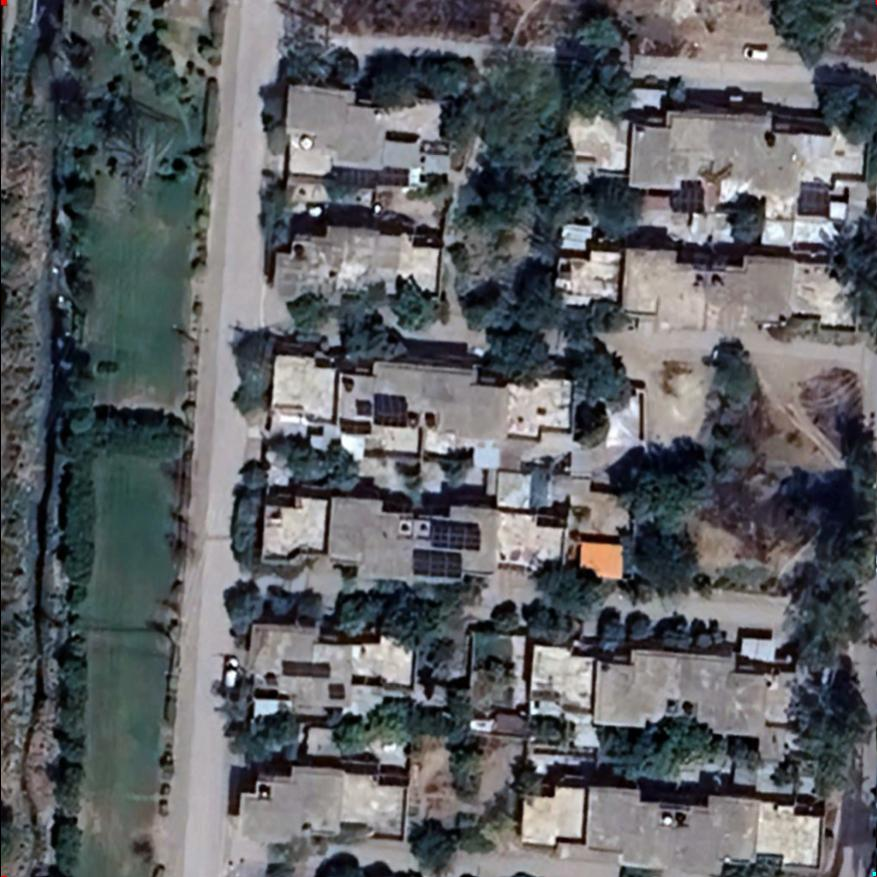Solarpanel: (427, 515, 486, 554), (410, 546, 464, 580), (371, 391, 410, 429), (792, 183, 832, 218), (278, 658, 331, 681), (667, 185, 707, 214), (338, 415, 374, 435), (351, 397, 373, 419), (325, 681, 344, 701)
